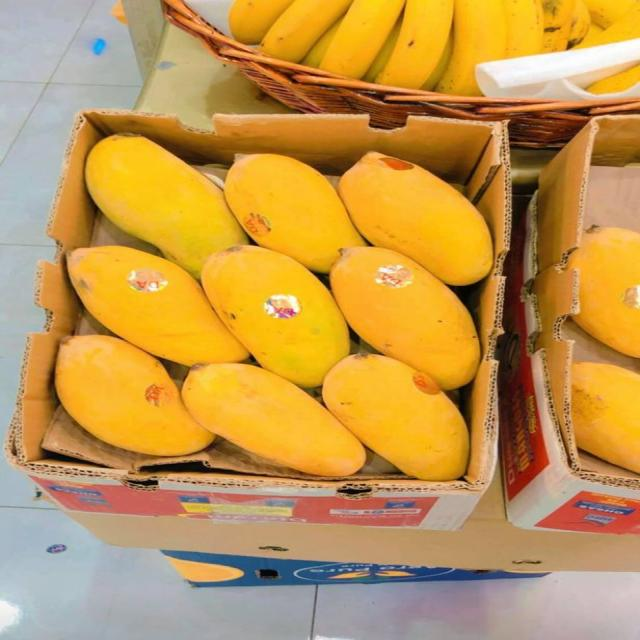mango: (86, 135, 247, 277), (68, 246, 249, 365), (202, 246, 350, 387), (331, 248, 479, 389), (182, 364, 365, 476), (339, 152, 492, 285), (56, 335, 214, 455), (324, 354, 469, 480), (225, 154, 365, 273), (569, 227, 639, 357), (572, 362, 639, 473)
